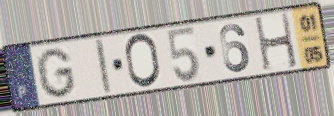5: (164, 24, 201, 85)
6: (219, 22, 253, 75)
G: (34, 46, 78, 100)
H: (252, 11, 300, 73)
I: (93, 37, 114, 96)
O: (123, 32, 163, 91)
